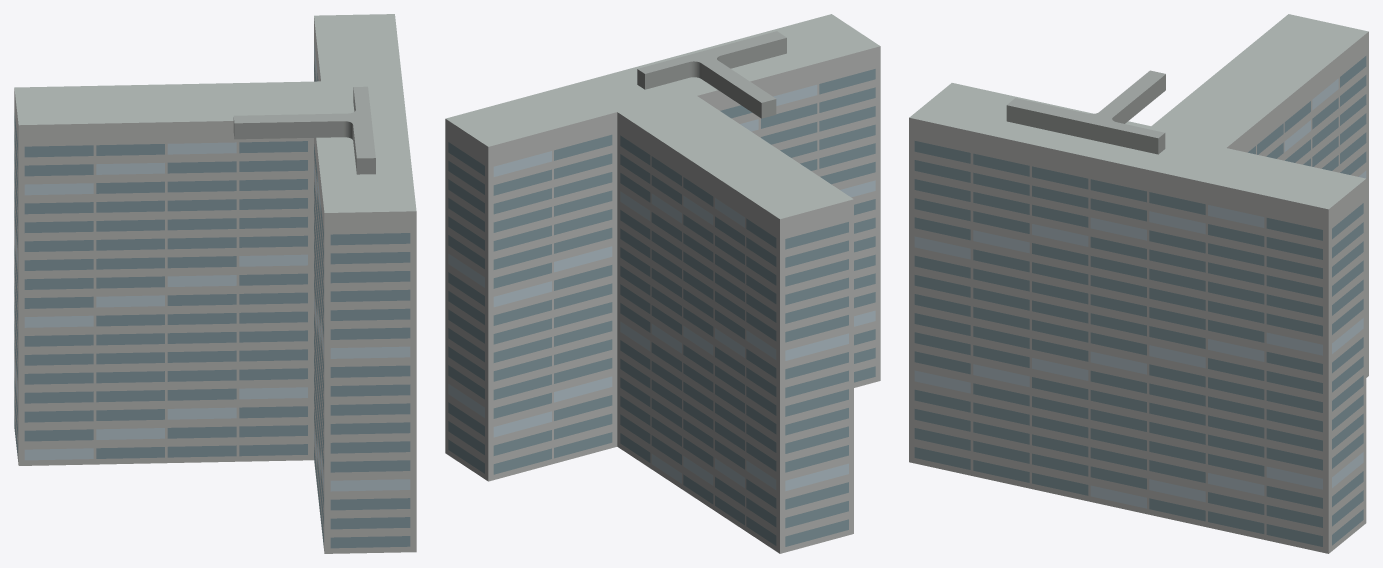
Rendered from apt-a13201201.glb.
The picture shows the model from 3 angles, left to right: view 1: azimuth 30°, elevation 25°; view 2: azimuth 150°, elevation 25°; view 3: azimuth 270°, elevation 25°; orthographic projection. The views are drawn at different scales.
Visible parts, largest first — view 1: apt-a13201201; view 2: apt-a13201201; view 3: apt-a13201201.
Boxes of the visible parts, x1=… form: apt-a13201201: x1=14, y1=14, x2=416, y2=553; apt-a13201201: x1=445, y1=14, x2=880, y2=553; apt-a13201201: x1=909, y1=14, x2=1368, y2=553.
Size of the model in its own units: 61.56 by 53 by 61.2.
